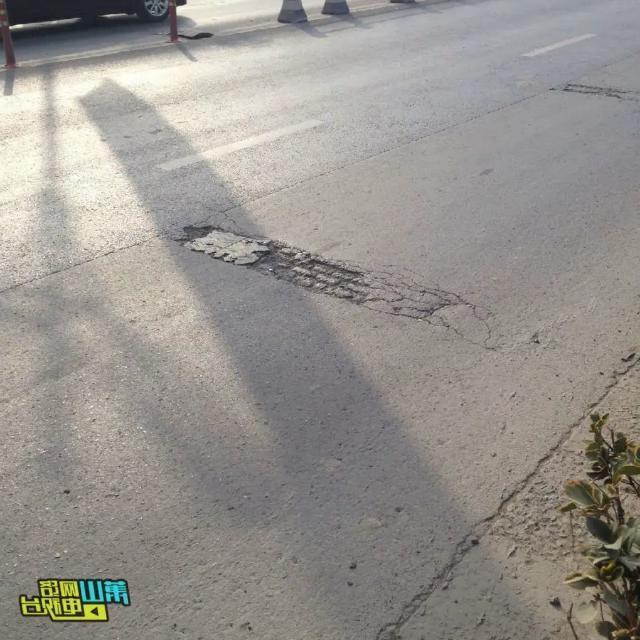pothole: (176, 226, 486, 323), (560, 84, 640, 105)
